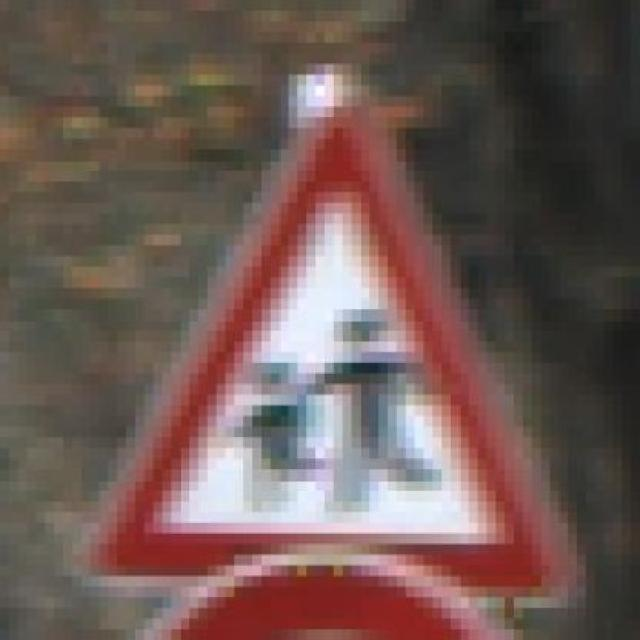Beware of children: (63, 74, 605, 608)
